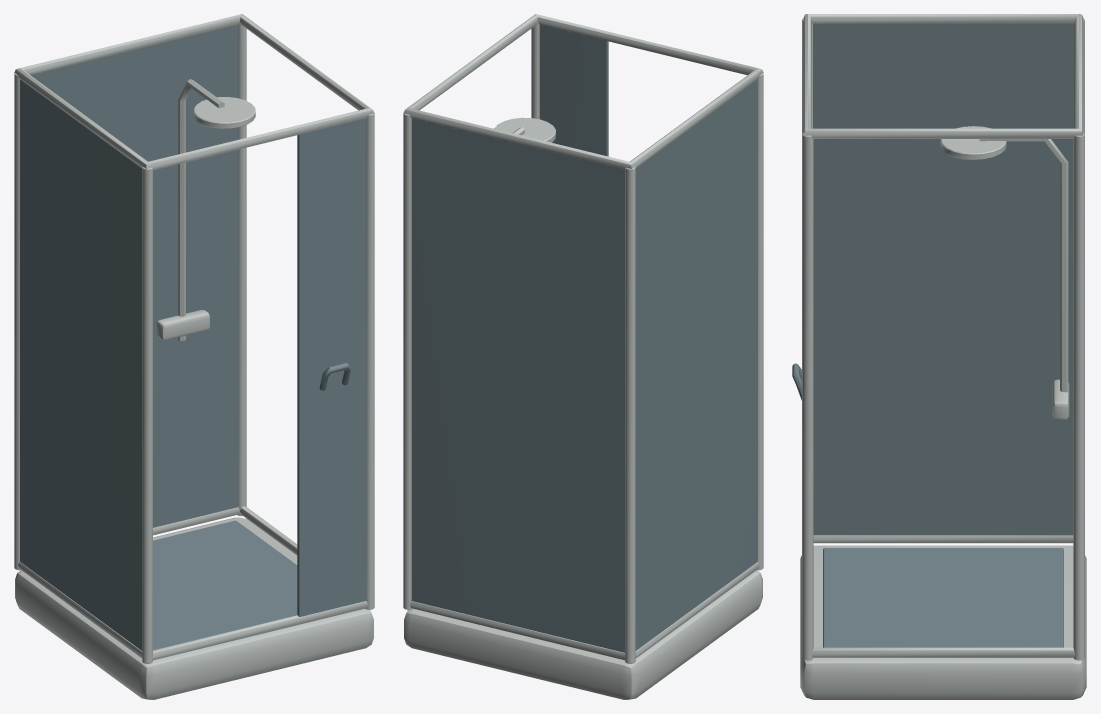
Rendered from shower-cabin.glb.
The picture shows the model from 3 angles, left to right: view 1: azimuth 30°, elevation 25°; view 2: azimuth 150°, elevation 25°; view 3: azimuth 270°, elevation 25°; orthographic projection. The views are drawn at different scales.
Parts seen in each view (by area): view 1: side_glass, rear_glass, door_glass, shower_tray, tray_inset, square_frame.001, frame_upright.001, square_frame, frame_upright.003, frame_upright.002, frame_upright, shower_pipe (+2 smaller); view 2: rear_glass, side_glass, shower_tray, door_glass, square_frame.001, frame_upright, frame_upright.002, frame_upright.001, square_frame, shower_head, frame_upright.003; view 3: side_glass, tray_inset, shower_tray, square_frame.001, frame_upright.002, frame_upright.003, square_frame, shower_pipe, shower_head, mixer_control.
Part boxes in pixels (bbox=[...]): side_glass: bbox=[20, 79, 142, 650]; rear_glass: bbox=[31, 24, 238, 527]; door_glass: bbox=[297, 118, 366, 616]; shower_tray: bbox=[15, 517, 373, 699]; tray_inset: bbox=[153, 520, 297, 650]; square_frame.001: bbox=[14, 14, 374, 170]; frame_upright.001: bbox=[142, 167, 152, 663]; square_frame: bbox=[18, 506, 374, 660]; frame_upright.003: bbox=[365, 113, 374, 609]; frame_upright.002: bbox=[237, 22, 246, 516]; frame_upright: bbox=[14, 73, 20, 570]; shower_pipe: bbox=[178, 79, 224, 340]; rear_glass: bbox=[411, 118, 624, 652]; side_glass: bbox=[635, 79, 757, 650]; shower_tray: bbox=[404, 570, 762, 699]; door_glass: bbox=[539, 24, 608, 156]; square_frame.001: bbox=[403, 14, 763, 170]; frame_upright: bbox=[625, 167, 635, 663]; frame_upright.002: bbox=[403, 113, 412, 609]; frame_upright.001: bbox=[757, 73, 763, 570]; square_frame: bbox=[403, 562, 759, 660]; shower_head: bbox=[494, 117, 555, 142]; frame_upright.003: bbox=[531, 22, 539, 119]; side_glass: bbox=[813, 24, 1073, 535]; tray_inset: bbox=[823, 548, 1063, 647]; shower_tray: bbox=[800, 545, 1086, 699]; square_frame.001: bbox=[803, 14, 1083, 138]; frame_upright.002: bbox=[1073, 133, 1084, 660]; frame_upright.003: bbox=[802, 133, 813, 660]; square_frame: bbox=[811, 535, 1075, 657]; shower_pipe: bbox=[979, 139, 1068, 392]; shower_head: bbox=[940, 126, 1006, 160]; mixer_control: bbox=[1052, 379, 1069, 420].
Size of the model in its own units: 0.95 by 2.1 by 0.9766.
